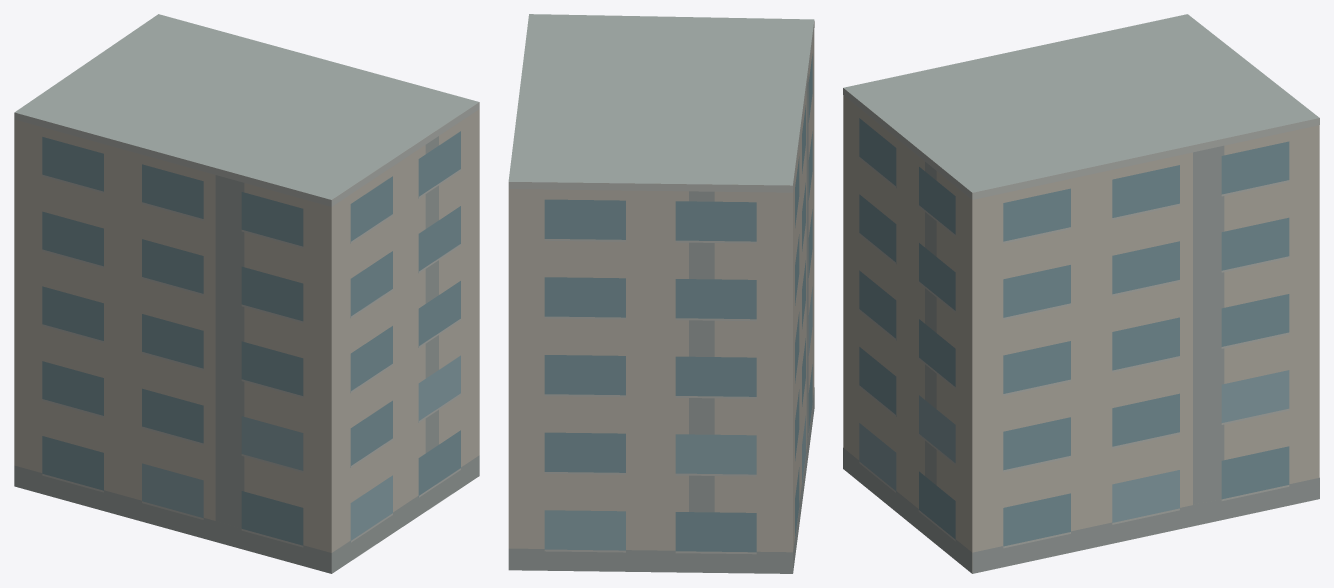
The model's file is survey-upis-32837120.glb.
3 views of the same model, side by side, from view 1: azimuth 30°, elevation 25°; view 2: azimuth 150°, elevation 25°; view 3: azimuth 270°, elevation 25° (orthographic). The views are drawn at different scales.
Visible parts, largest first — view 1: survey-upis-32837120.tmp; view 2: survey-upis-32837120.tmp; view 3: survey-upis-32837120.tmp.
Part boxes in pixels (x1=…): survey-upis-32837120.tmp: x1=14, y1=14, x2=479, y2=573; survey-upis-32837120.tmp: x1=508, y1=14, x2=814, y2=573; survey-upis-32837120.tmp: x1=843, y1=14, x2=1319, y2=573.
Bounding box in the file's own units: 13.24 × 13.14 × 14.91.
